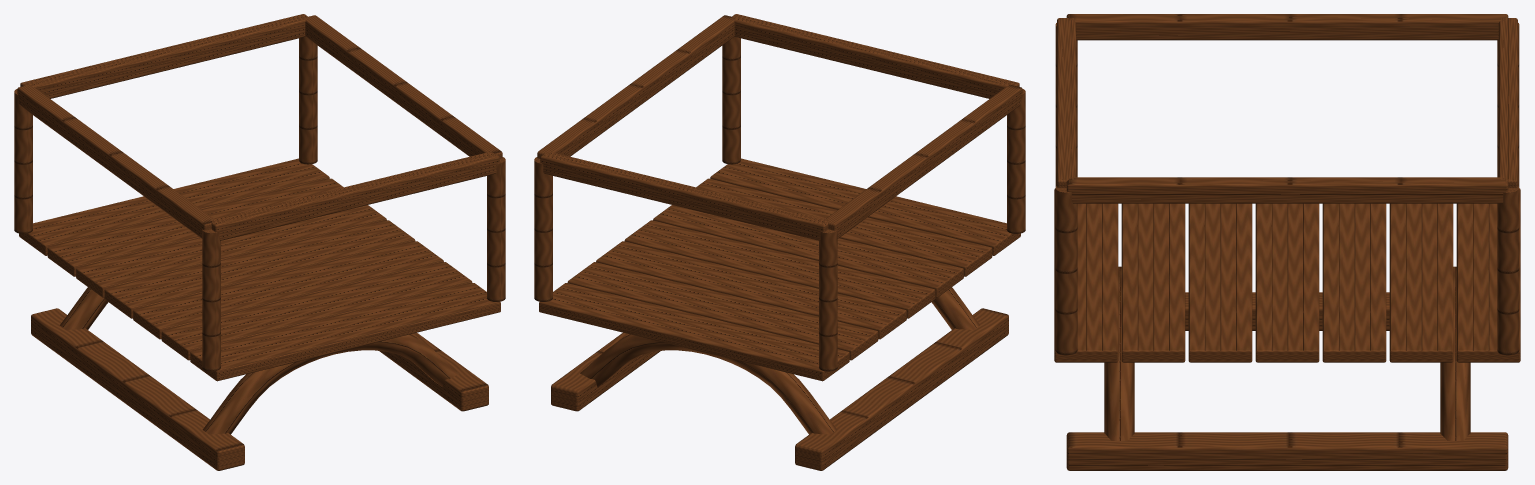
The model's file is creature-husbandry-and-transport-cargo-howdah-bf0f7d18__24023.glb.
3 renders of one model, left to right at view 1: azimuth 30°, elevation 25°; view 2: azimuth 150°, elevation 25°; view 3: azimuth 270°, elevation 25°, orthographic. The views are drawn at different scales.
Visible parts, largest first — view 1: cargo-howdah; view 2: cargo-howdah; view 3: cargo-howdah.
Boxes of the visible parts, x1,y1,x2,y2 form: cargo-howdah: (14, 14, 505, 470); cargo-howdah: (534, 14, 1025, 470); cargo-howdah: (1054, 14, 1520, 470).
Bounding box in the file's own units: 1.48 × 1.18 × 1.69.
Materials: 1 (1 with a texture image).
